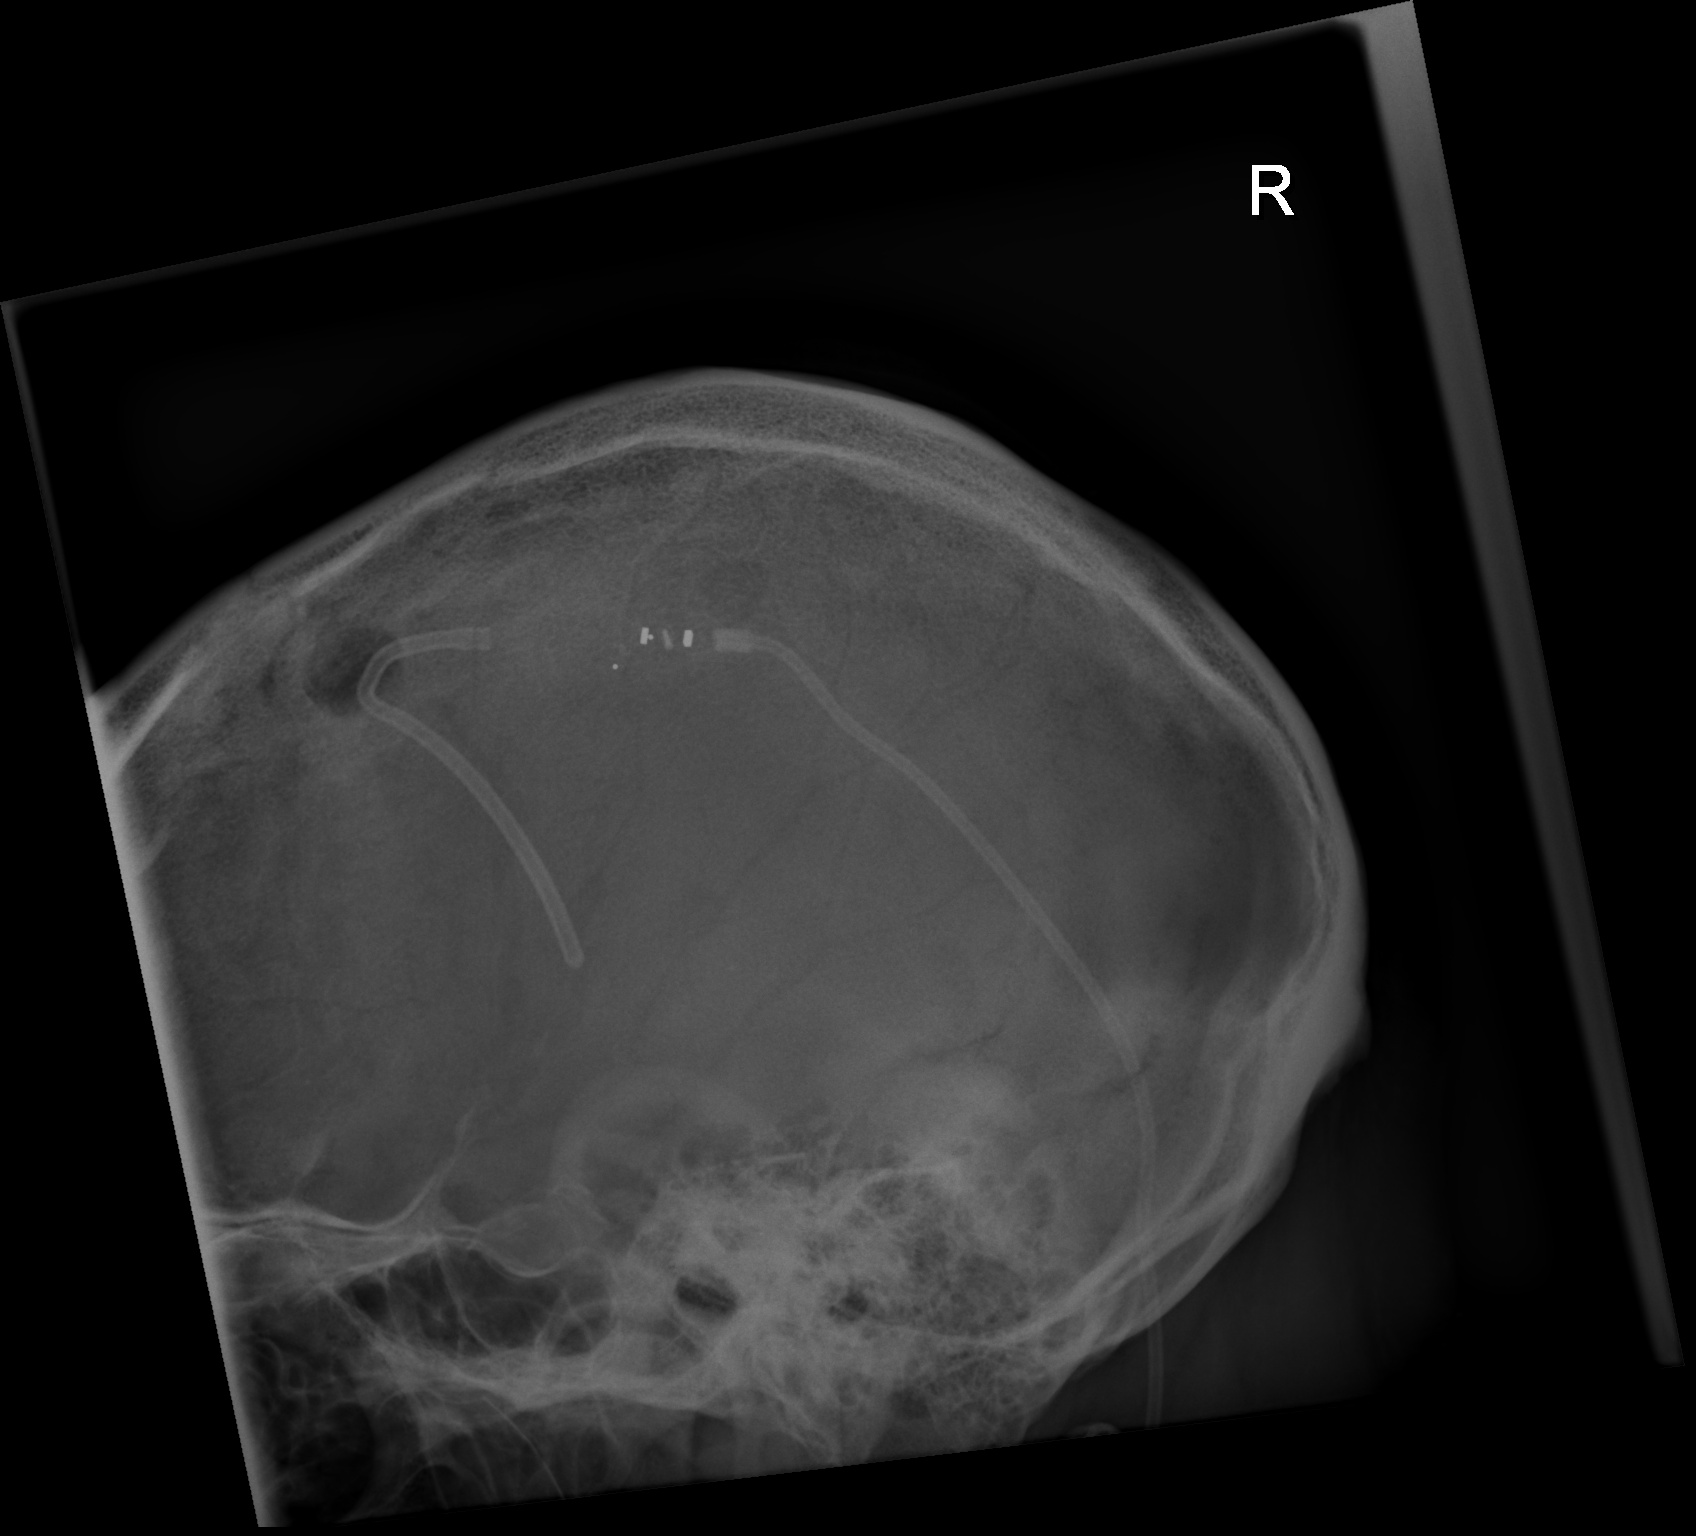Codman Certas: (601, 601, 706, 691)
